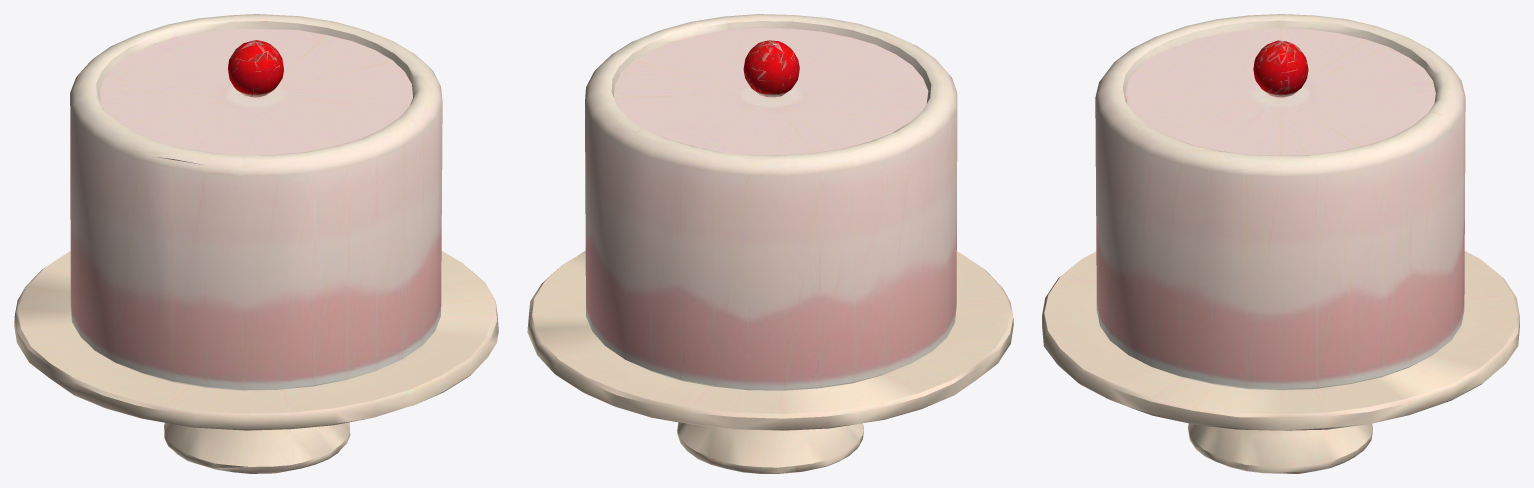
File: cakestand.glb
The picture shows the model from 3 angles, left to right: view 1: azimuth 30°, elevation 25°; view 2: azimuth 150°, elevation 25°; view 3: azimuth 270°, elevation 25°; orthographic projection.
Parts seen in each view (by area): view 1: Mesh_0; view 2: Mesh_0; view 3: Mesh_0.
Part boxes in pixels (x1,y1,x2,y2): Mesh_0: (14, 14, 498, 473); Mesh_0: (527, 14, 1013, 473); Mesh_0: (1042, 14, 1519, 473).
Size of the model in its own units: 44.6 by 40.48 by 44.6.
Materials: 1 (1 with a texture image).
